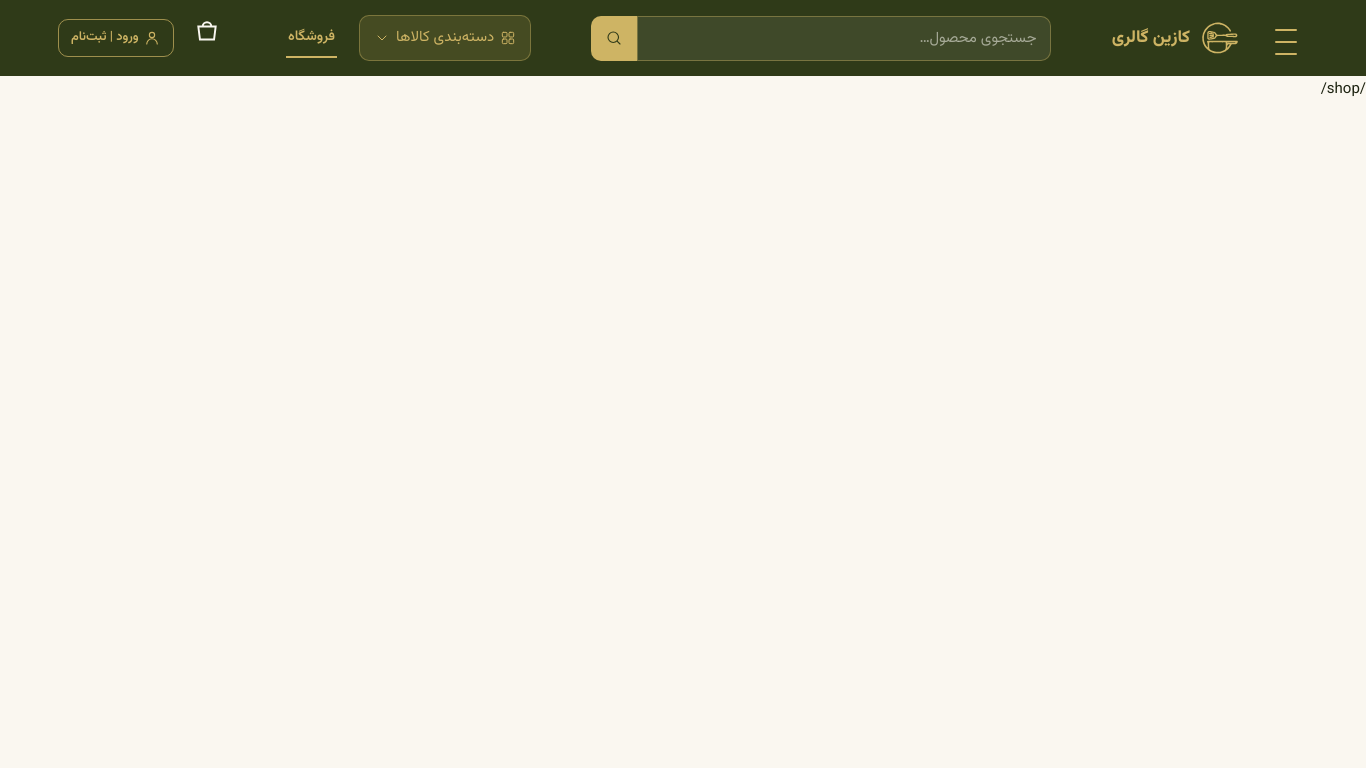
Test case: mobile navigation drawer › shows only the requested links, highlights the current page and locks scrolling
Click the button with class "site-header__burger" at point(1286, 38), box [1264,16,1308,60]
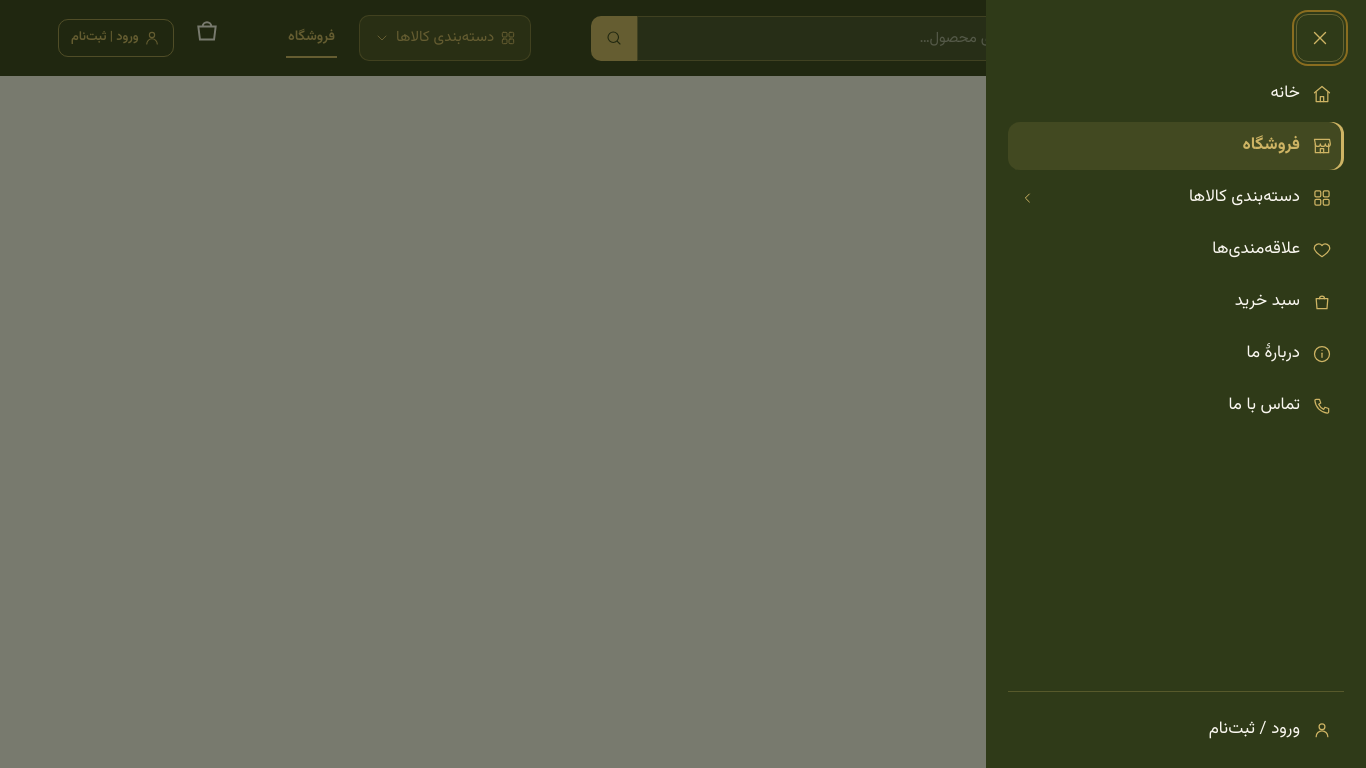
Expected: the link "ورود / ثبت‌نام" is shown, [1209,716,1332,742]
